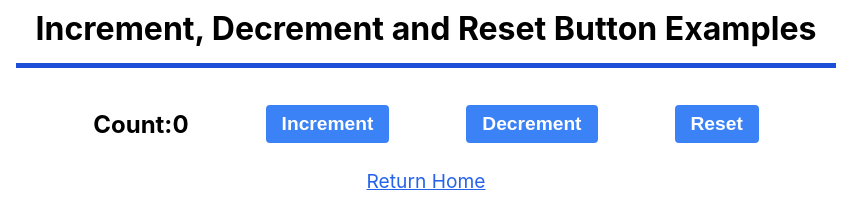
Test: Increment Counter › should increase by 1 when clicking button
expect the heading "Count:0" is shown: met, box [93,110,189,139]
Click the button "Increment" at point(327, 124), box [266,105,389,143]
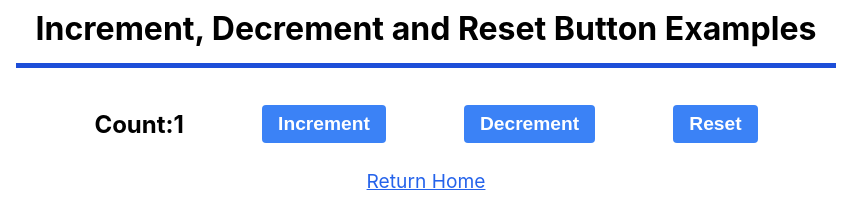
expect the heading "Count:0" shows "1": met, box [174,110,184,139]
Click the button "Increment" at point(324, 124), box [262,105,386,143]
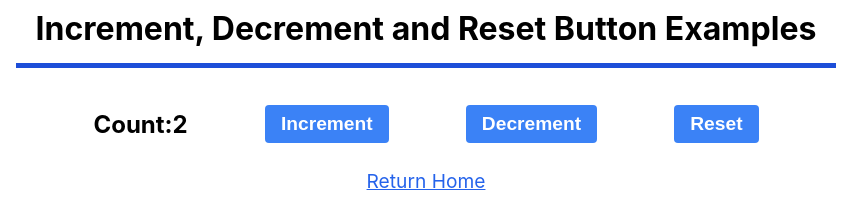
expect the heading "Count:0" shows "2": met, box [173,110,188,139]
